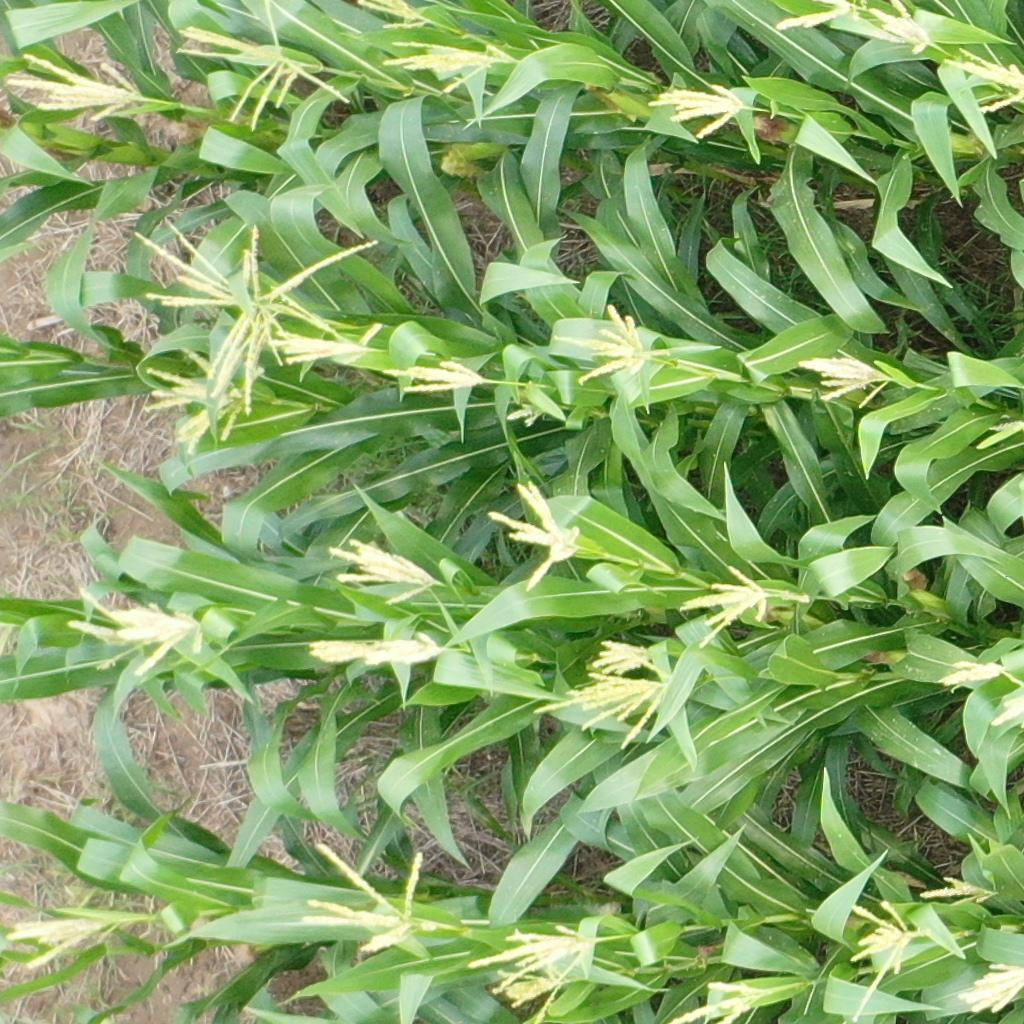Tassel: (129, 212, 381, 416), (175, 1, 353, 135), (305, 838, 439, 953), (142, 345, 271, 453), (62, 586, 209, 675), (676, 564, 814, 650), (532, 669, 672, 753), (835, 895, 926, 1022), (486, 480, 584, 589), (464, 923, 591, 1006), (555, 305, 681, 388), (379, 28, 516, 98), (6, 49, 139, 119), (269, 289, 383, 363), (327, 536, 444, 607), (648, 76, 748, 145), (303, 628, 448, 673), (4, 910, 110, 971), (941, 40, 1024, 117), (797, 346, 892, 412), (663, 979, 773, 1024), (382, 350, 487, 397), (492, 969, 576, 1024), (956, 956, 1024, 1013), (864, 1, 934, 54), (774, 1, 865, 37), (591, 634, 662, 679), (913, 872, 1001, 906), (355, 1, 433, 31), (934, 662, 1005, 692), (505, 398, 549, 430), (994, 699, 1024, 727)
